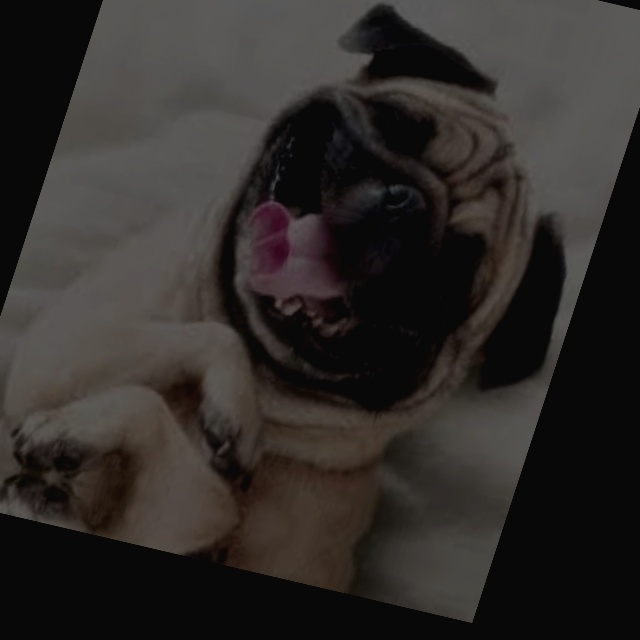dog: (151, 0, 640, 422), (268, 0, 640, 59)
